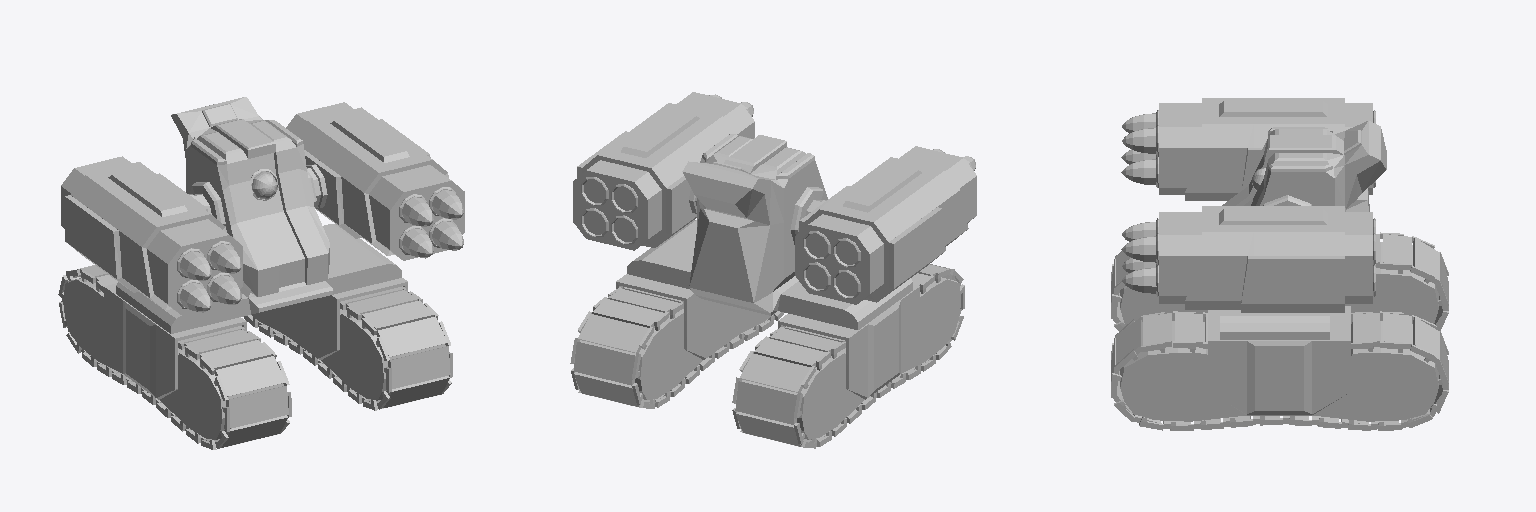
Rendered from kaonov_cannon.obj.
3 views of the same model, side by side, from view 1: azimuth 30°, elevation 25°; view 2: azimuth 150°, elevation 25°; view 3: azimuth 270°, elevation 25° (orthographic).
Parts seen in each view (by area): view 1: kaonov_cannon_Cube.006; view 2: kaonov_cannon_Cube.006; view 3: kaonov_cannon_Cube.006.
Part boxes in pixels (left/top/right/bottom): kaonov_cannon_Cube.006: left=58, top=97, right=464, bottom=449; kaonov_cannon_Cube.006: left=570, top=92, right=976, bottom=448; kaonov_cannon_Cube.006: left=1111, top=98, right=1448, bottom=430.
Bounding box in the file's own units: 61.79 × 44.73 × 57.15.